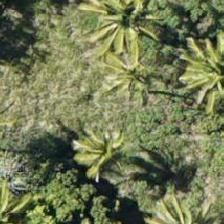coconut_tree: (59, 106, 149, 196), (161, 29, 223, 119), (91, 0, 181, 57)
